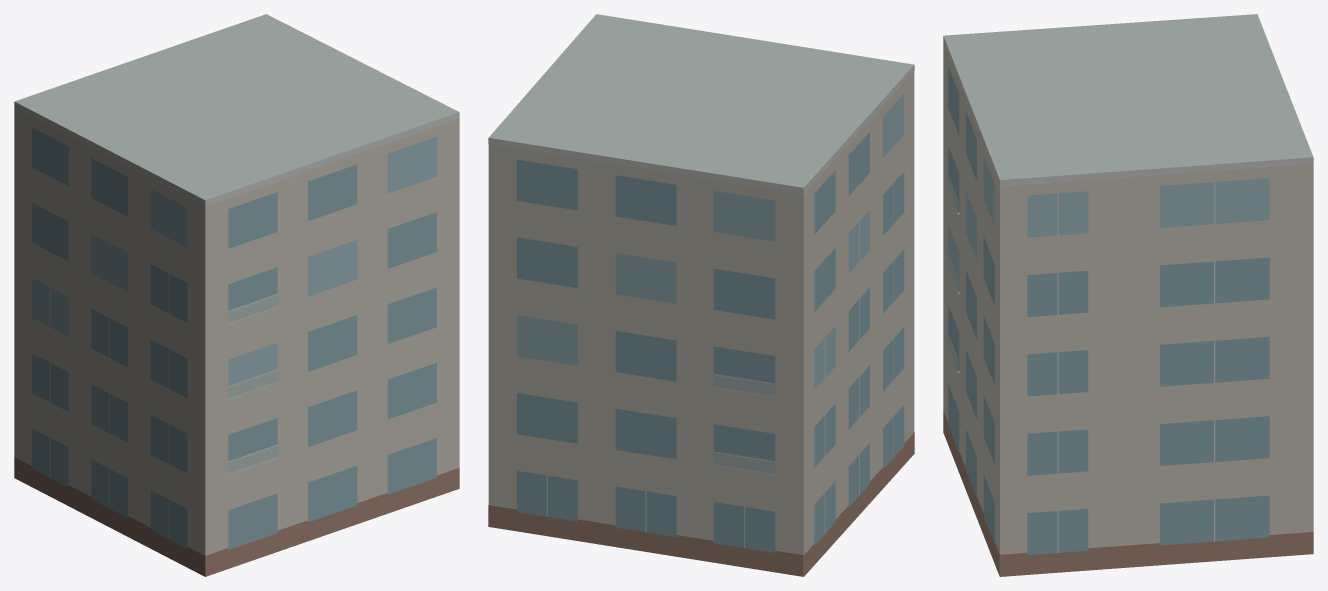
File: survey-upis-32940684.glb
The picture shows the model from 3 angles, left to right: view 1: azimuth 30°, elevation 25°; view 2: azimuth 150°, elevation 25°; view 3: azimuth 270°, elevation 25°; orthographic projection. The views are drawn at different scales.
Parts seen in each view (by area): view 1: survey-upis-32940684.tmp; view 2: survey-upis-32940684.tmp; view 3: survey-upis-32940684.tmp.
Part boxes in pixels (<box>): survey-upis-32940684.tmp: <box>14,14,459,576</box>; survey-upis-32940684.tmp: <box>488,14,914,576</box>; survey-upis-32940684.tmp: <box>943,14,1313,576</box>.
Bounding box in the file's own units: 12.98 × 14.45 × 12.23.
